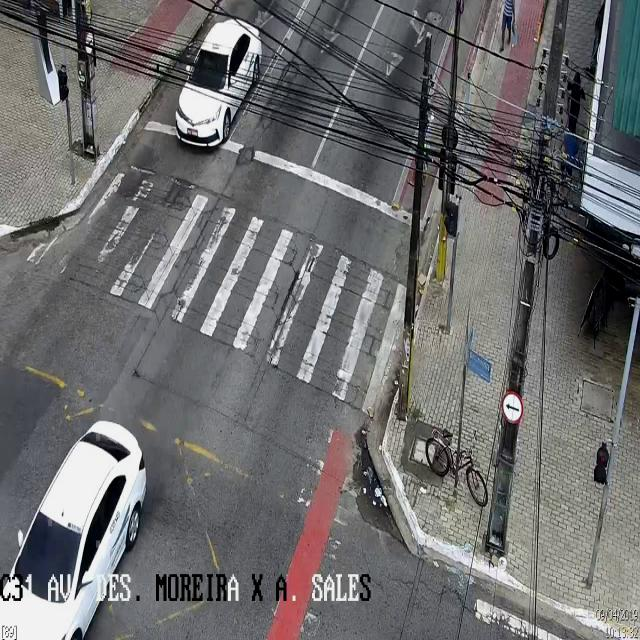Car: (0, 361, 183, 640), (176, 19, 262, 148)
